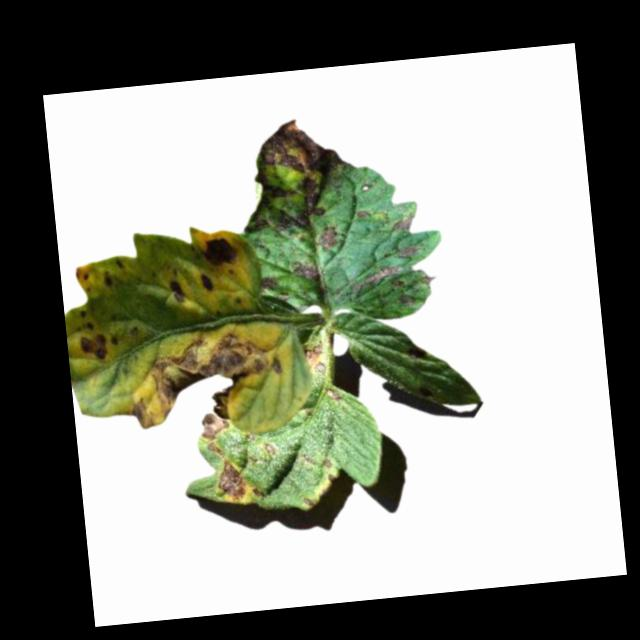Early_blight: (125, 325, 283, 426), (235, 110, 345, 232), (349, 260, 406, 296), (196, 383, 231, 439), (197, 230, 238, 266), (216, 456, 247, 502), (76, 325, 107, 360), (288, 256, 322, 283), (304, 341, 325, 374), (314, 224, 338, 252), (391, 210, 417, 233), (166, 277, 185, 304), (197, 268, 215, 294), (204, 438, 222, 458), (394, 243, 416, 258), (352, 205, 372, 220), (323, 387, 344, 400), (99, 270, 113, 288), (320, 454, 333, 470), (263, 441, 277, 455), (302, 493, 314, 507)
